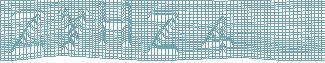4: (200, 15, 235, 57)
H: (95, 1, 135, 50)
Z: (6, 7, 49, 54), (145, 8, 182, 57)
y: (56, 6, 90, 54)
